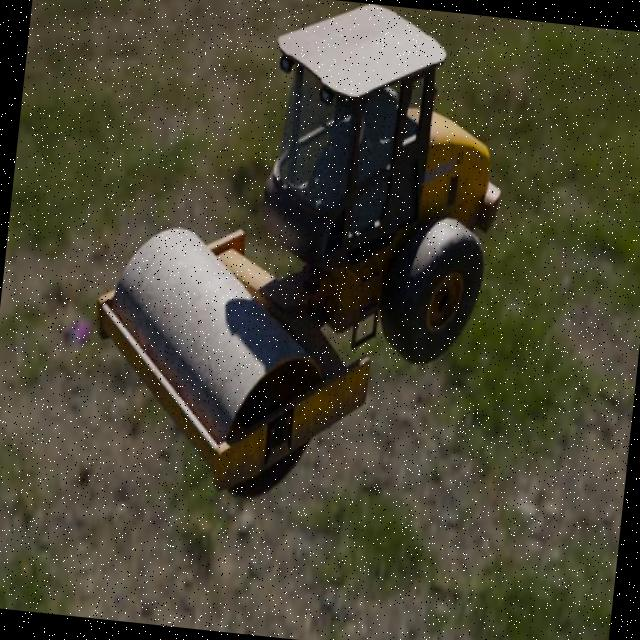Roller: (75, 0, 518, 522)
